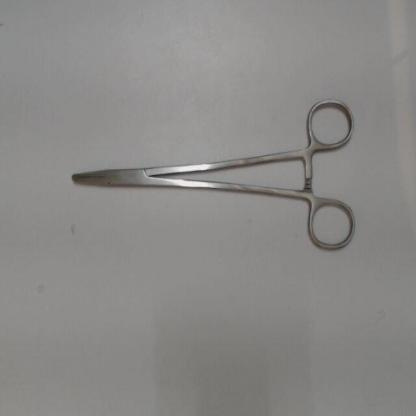8 Mayo Needle Holder: (59, 88, 364, 261)
